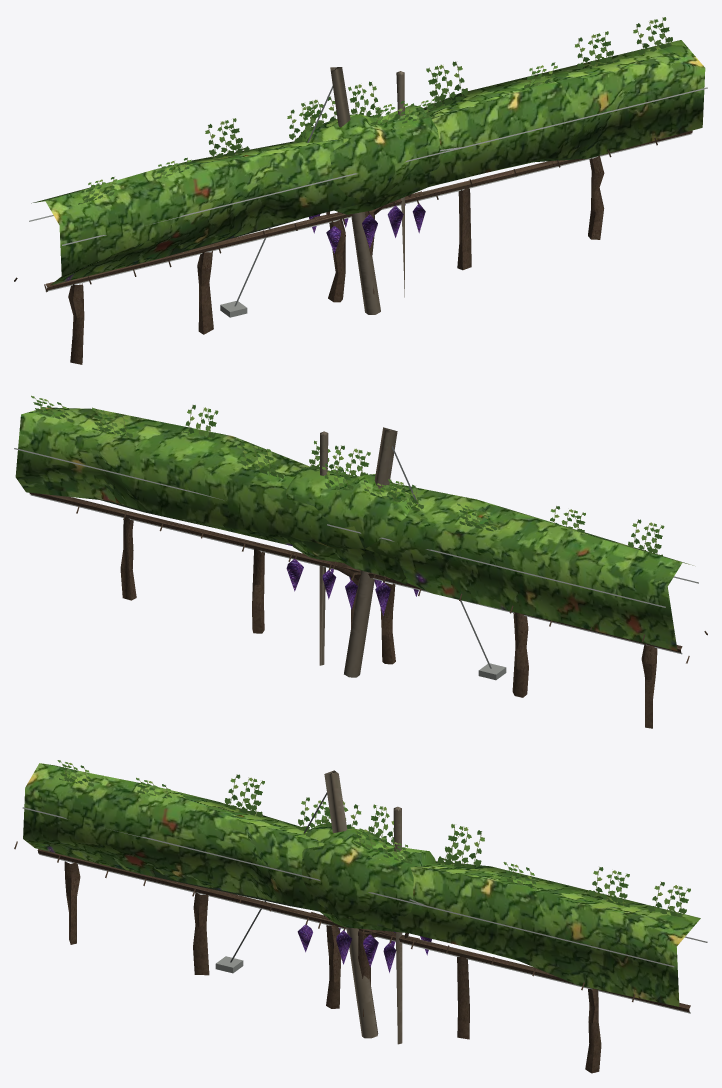
The model's file is vines_lo.glb.
3 renders of one model, top to bottom at view 1: azimuth 30°, elevation 25°; view 2: azimuth 150°, elevation 25°; view 3: azimuth 330°, elevation 25°, orthographic.
Visible parts, largest first — view 1: vine_row_6m, vine_plant, vine_post; view 2: vine_row_6m, vine_plant, vine_post; view 3: vine_row_6m, vine_plant, vine_post.
Part boxes in pixels (x1,y1,x2,y2): vine_row_6m: (14,17,707,364); vine_plant: (299,81,442,294); vine_post: (220,67,461,317); vine_row_6m: (14,395,707,728); vine_plant: (286,440,421,632); vine_post: (268,427,506,680); vine_row_6m: (14,760,707,1073); vine_plant: (297,801,435,1016); vine_post: (215,770,452,1038).
Bounding box in the file's own units: 6.17 × 2.25 × 0.5974.
2 materials, 2 textured.
